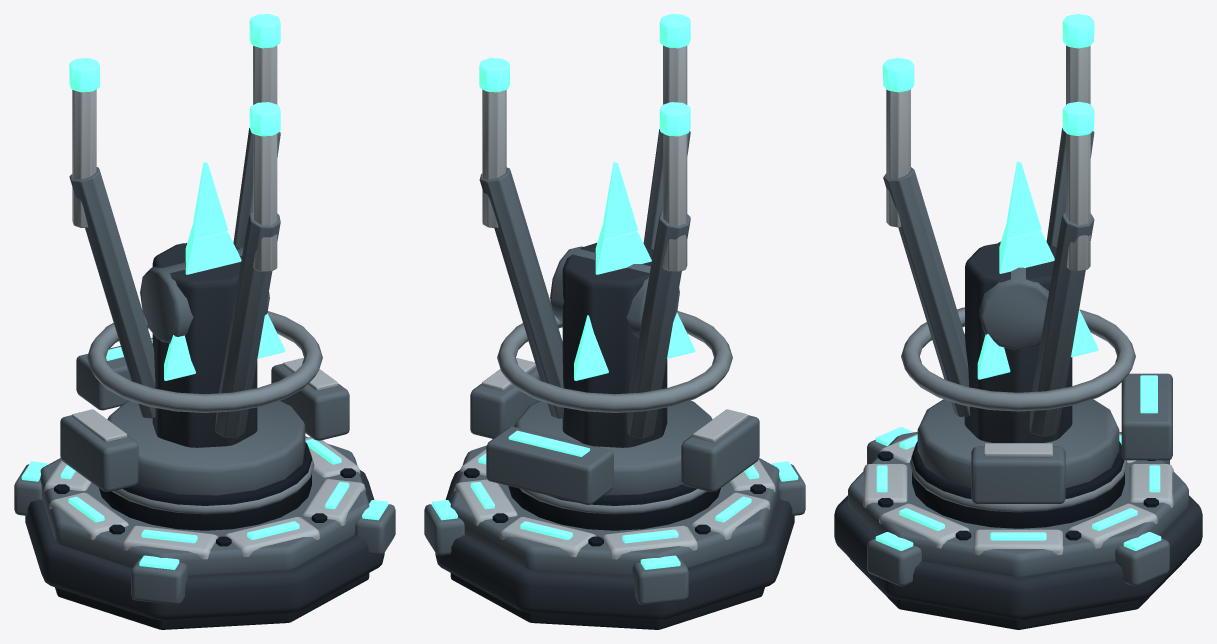
The model's file is signal_beacon.fbx.
3 renders of one model, left to right at view 1: azimuth 30°, elevation 25°; view 2: azimuth 150°, elevation 25°; view 3: azimuth 270°, elevation 25°, orthographic.
Parts seen in each view (by area): view 1: Yaw_Geometry, Base_Geometry, Recoil_Geometry, Tier3_Cooling_Geometry, Apex_sector_0_Geometry, Tier2_Capacitor_Geometry, Apex_sector_3_Geometry, Apex_sector_1_Geometry; view 2: Yaw_Geometry, Base_Geometry, Recoil_Geometry, Tier3_Cooling_Geometry, Tier2_Capacitor_Geometry, Apex_sector_1_Geometry, Apex_sector_2_Geometry, Apex_sector_0_Geometry; view 3: Yaw_Geometry, Base_Geometry, Recoil_Geometry, Tier3_Cooling_Geometry, Tier2_Capacitor_Geometry, Apex_sector_2_Geometry, Apex_sector_3_Geometry, Apex_sector_0_Geometry.
Boxes of the visible parts, bbox=[...] form: Yaw_Geometry: bbox=[69, 14, 305, 495]; Base_Geometry: bbox=[25, 436, 384, 629]; Recoil_Geometry: bbox=[87, 162, 322, 412]; Tier3_Cooling_Geometry: bbox=[60, 358, 349, 491]; Apex_sector_0_Geometry: bbox=[131, 555, 187, 604]; Tier2_Capacitor_Geometry: bbox=[76, 338, 152, 410]; Apex_sector_3_Geometry: bbox=[355, 500, 395, 555]; Apex_sector_1_Geometry: bbox=[14, 461, 47, 515]; Yaw_Geometry: bbox=[479, 14, 712, 495]; Base_Geometry: bbox=[435, 445, 794, 629]; Recoil_Geometry: bbox=[497, 162, 732, 412]; Tier3_Cooling_Geometry: bbox=[470, 358, 759, 491]; Tier2_Capacitor_Geometry: bbox=[486, 426, 613, 504]; Apex_sector_1_Geometry: bbox=[632, 555, 688, 604]; Apex_sector_2_Geometry: bbox=[424, 500, 464, 555]; Apex_sector_0_Geometry: bbox=[772, 461, 805, 515]; Yaw_Geometry: bbox=[882, 14, 1119, 488]; Base_Geometry: bbox=[834, 432, 1202, 629]; Recoil_Geometry: bbox=[901, 161, 1135, 411]; Tier3_Cooling_Geometry: bbox=[971, 443, 1065, 503]; Tier2_Capacitor_Geometry: bbox=[1121, 373, 1172, 460]; Apex_sector_2_Geometry: bbox=[1115, 532, 1169, 586]; Apex_sector_3_Geometry: bbox=[867, 532, 921, 586]; Apex_sector_0_Geometry: bbox=[867, 427, 912, 464].
Size of the model in its own units: 1.88 by 2.79 by 1.88.
